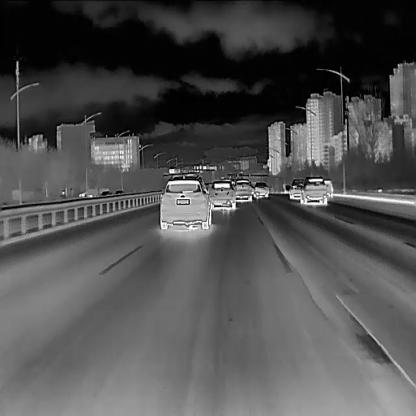car: (159, 173, 211, 228), (300, 176, 326, 207), (209, 178, 234, 209), (233, 179, 249, 202), (288, 179, 304, 200), (252, 180, 269, 198), (323, 180, 333, 198), (99, 190, 112, 196), (114, 190, 124, 194)
